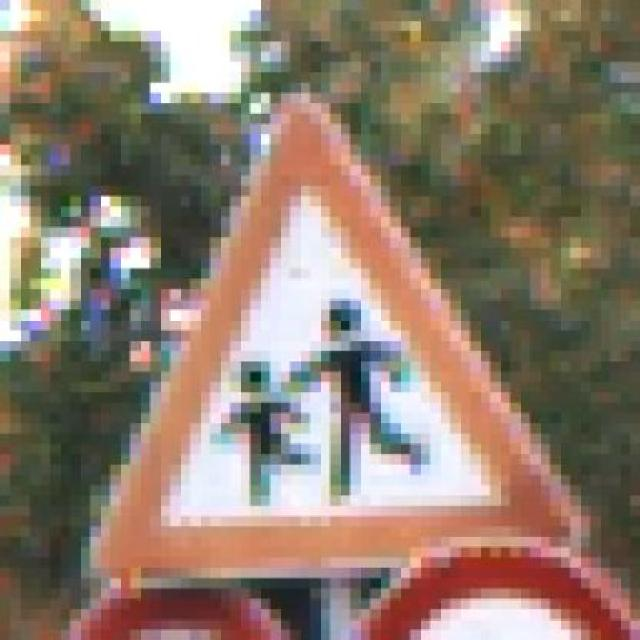Beware of children: (70, 82, 590, 588)
